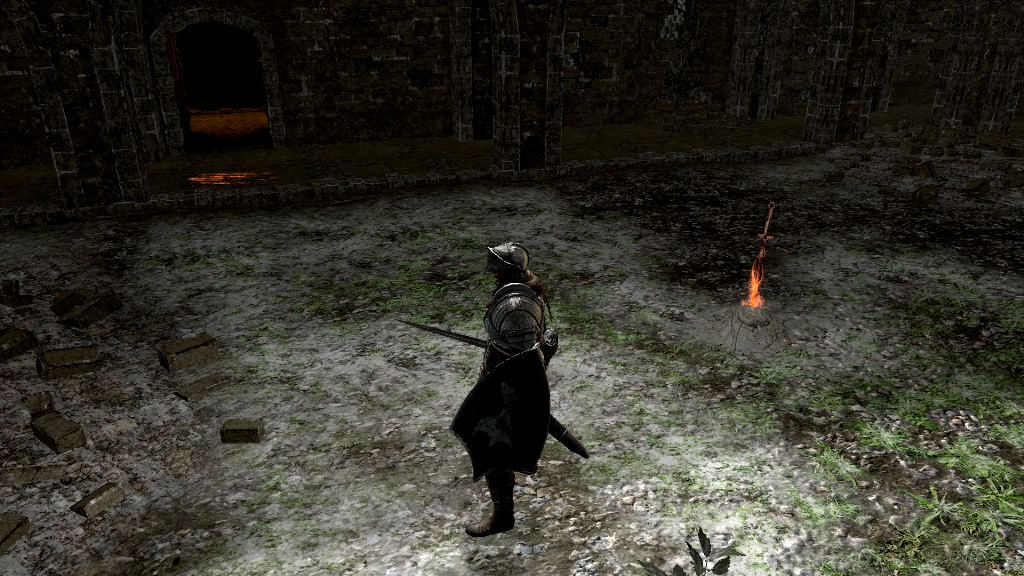bonfire: (736, 200, 788, 327)
player: (397, 239, 563, 540)
